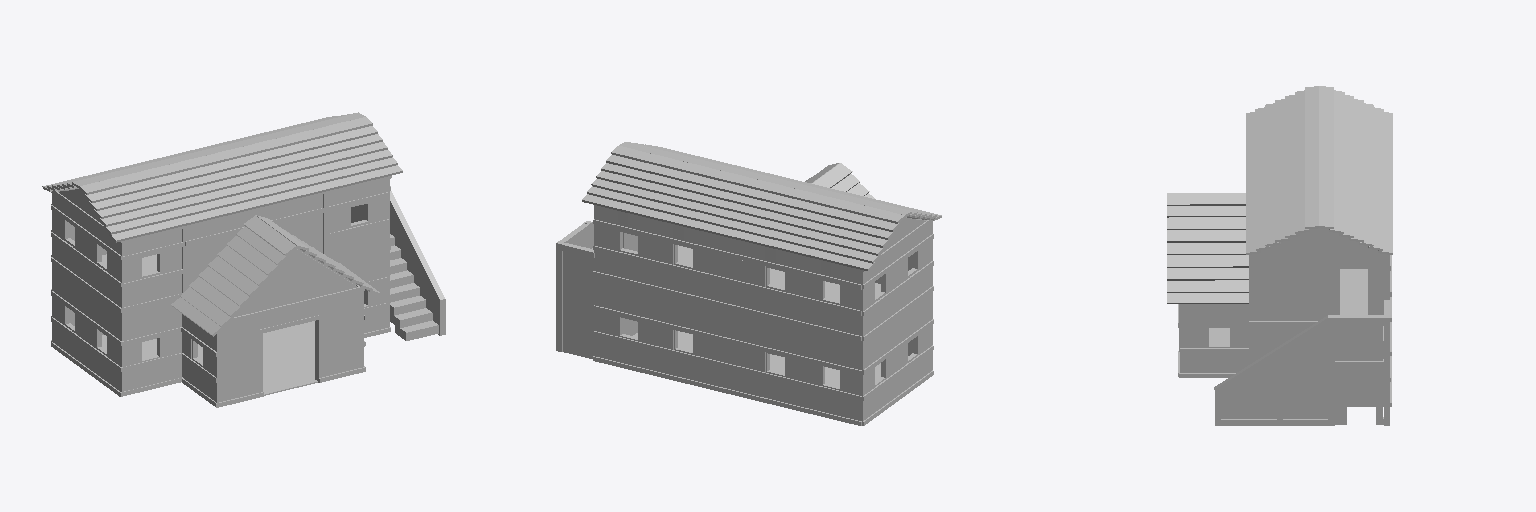
Rendered from Woodhouse.obj.
3 renders of one model, left to right at view 1: azimuth 30°, elevation 25°; view 2: azimuth 150°, elevation 25°; view 3: azimuth 270°, elevation 25°, orthographic.
Parts seen in each view (by area): view 1: HOUSE2; view 2: HOUSE2; view 3: HOUSE2.
Boxes of the visible parts, x1,y1,x2,y2 form: HOUSE2: [42, 112, 445, 407]; HOUSE2: [556, 142, 941, 425]; HOUSE2: [1167, 86, 1392, 425].
Bounding box in the file's own units: 454 × 259 × 285.